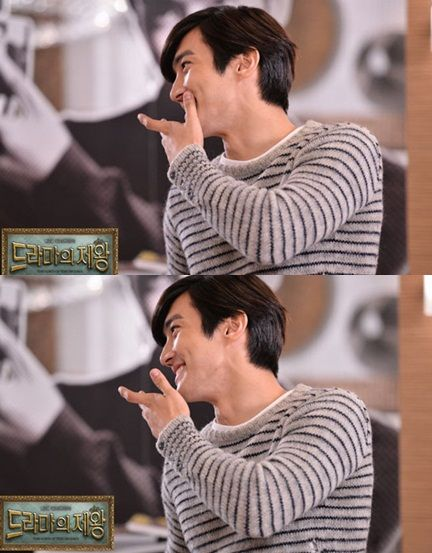face: (169, 27, 229, 134), (160, 291, 216, 399)
